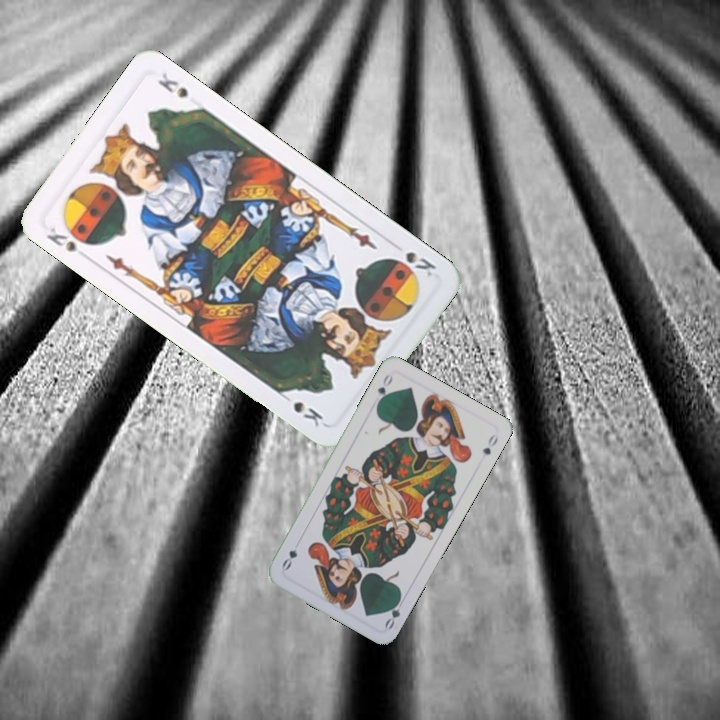GO: (381, 592, 408, 632), (373, 370, 395, 408)
SK: (42, 220, 96, 263), (387, 238, 439, 280)
